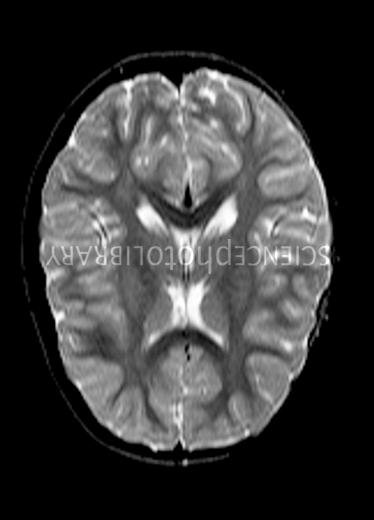Normal_Brain: (1, 1, 374, 520)
